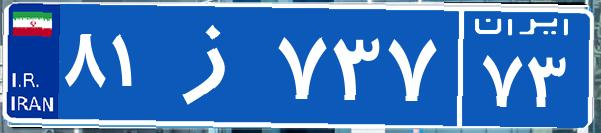1: (110, 28, 158, 105)
3: (330, 28, 385, 110), (525, 38, 570, 115)
7: (385, 28, 445, 110), (273, 28, 330, 110), (475, 38, 525, 113)
8: (57, 26, 110, 107)
ز: (158, 15, 273, 115)
